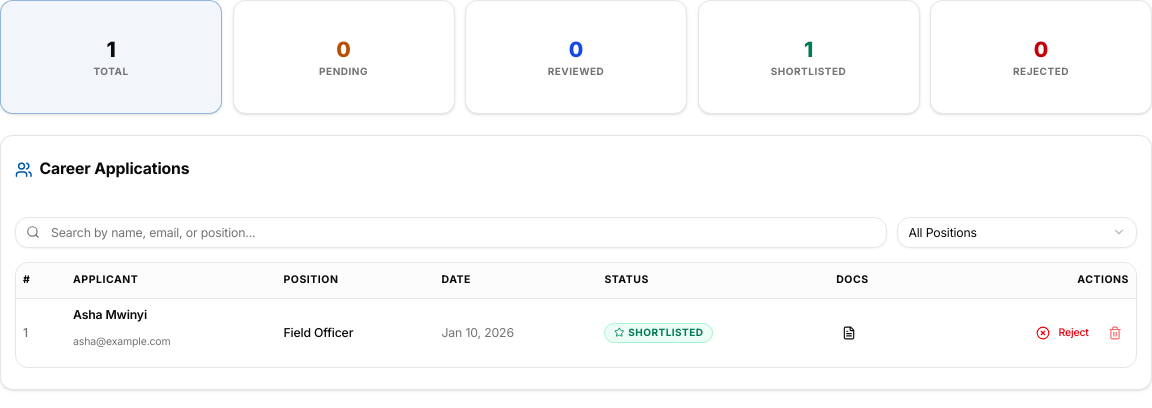
Test: HRApplicationsSubtab › rejects a shortlisted application and reopens a rejected one
The width and height of the screenshot is (1152, 408).
Click the button "Reject": (1062, 333) 1027,319 -> 1098,347
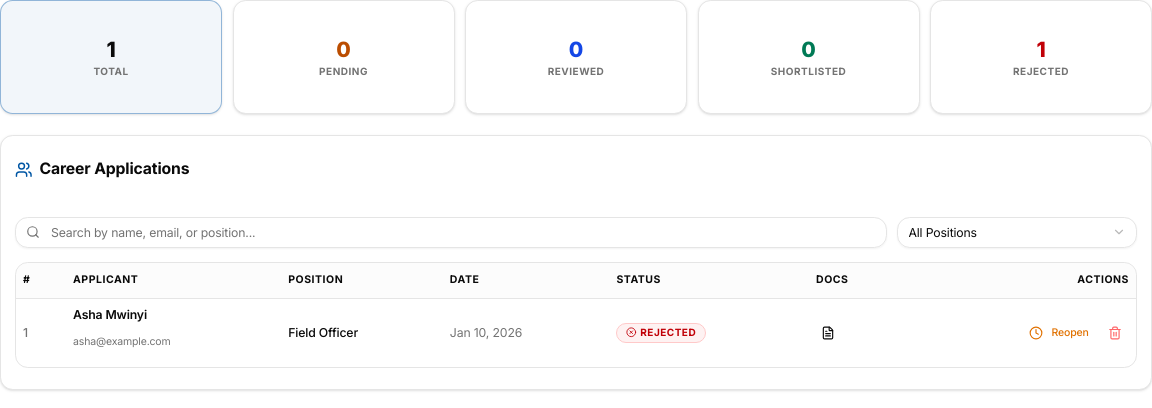
expect the text "Rejected" is shown: met, box 616,323 -> 706,342
Click the button "Reopen": (1059, 333) 1020,319 -> 1098,347
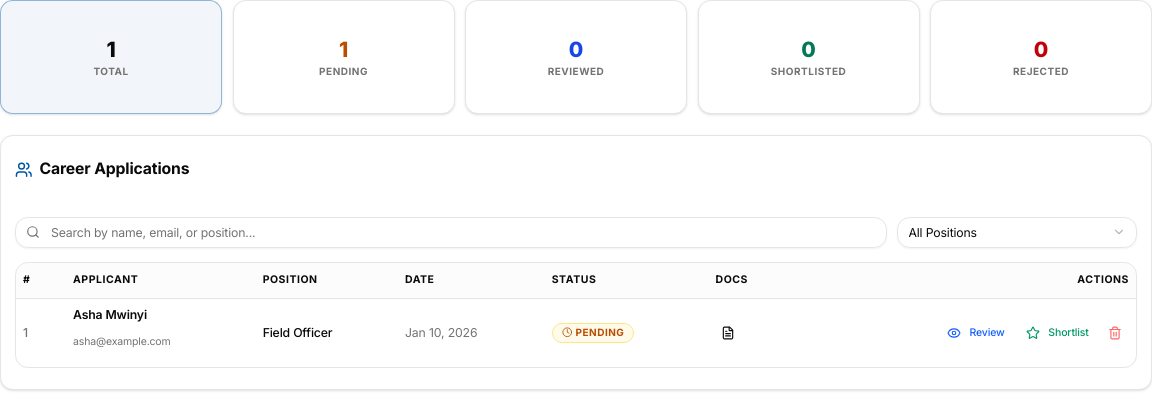
expect the text "Pending" is shown: met, box 552,323 -> 634,342
